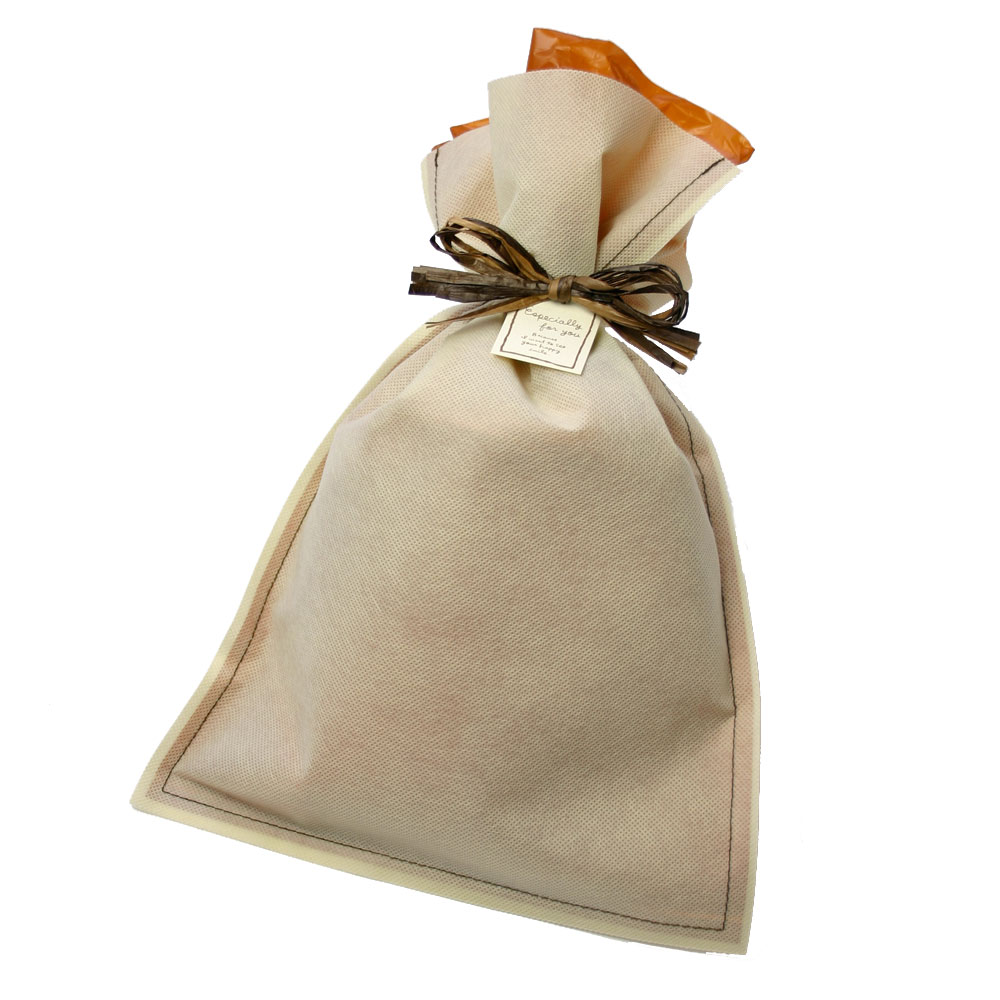flexible: (125, 13, 792, 970)
